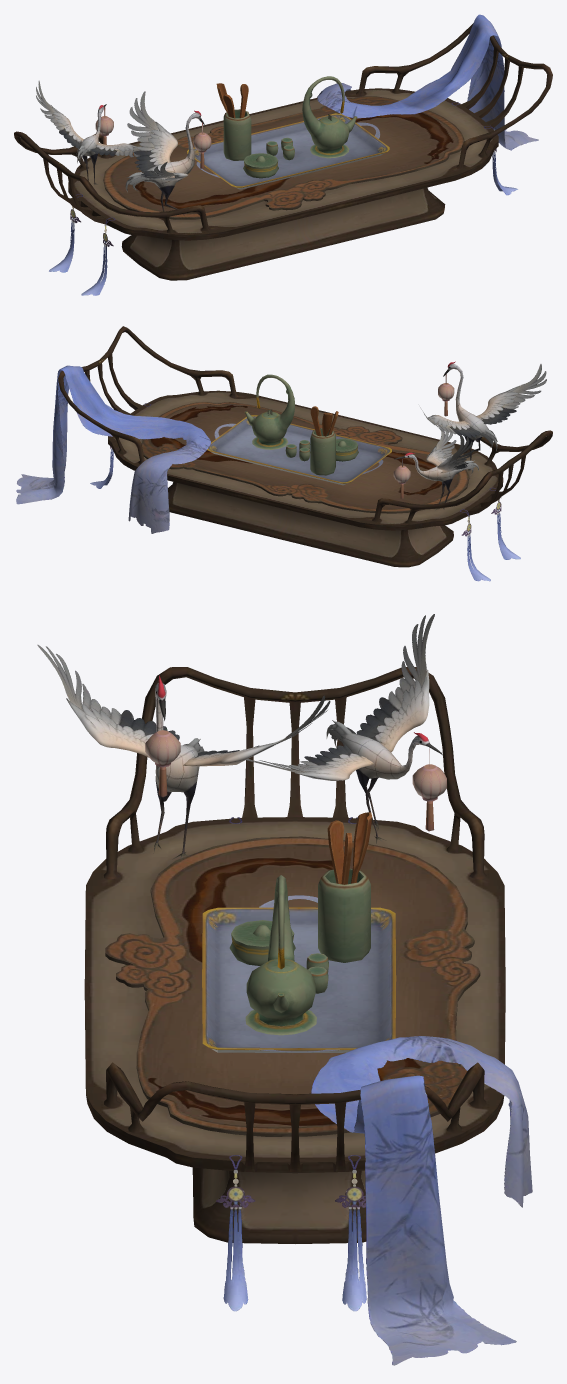
File: furniture-20784.glb
3 renders of one model, top to bottom at view 1: azimuth 30°, elevation 25°; view 2: azimuth 150°, elevation 25°; view 3: azimuth 270°, elevation 25°, orthographic. The views are drawn at different scales.
Bounding box in the file's own units: 3.83 × 1.28 × 1.74.
2 materials, 2 textured.
